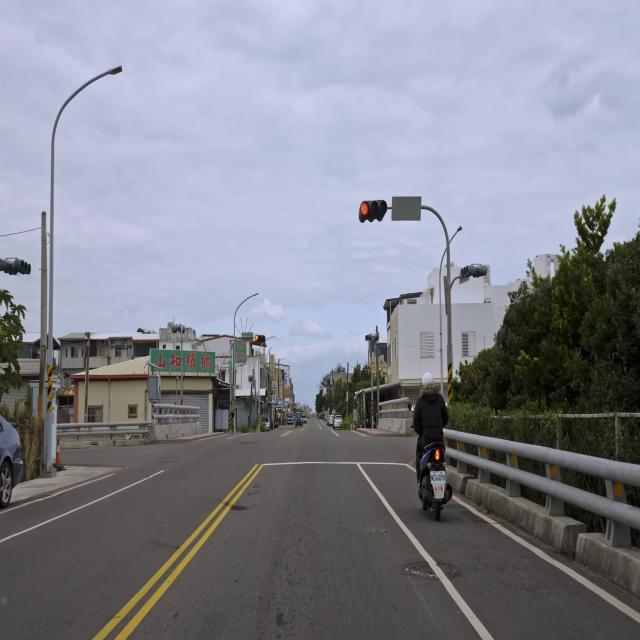red light: (358, 200, 387, 221), (254, 334, 266, 343)
